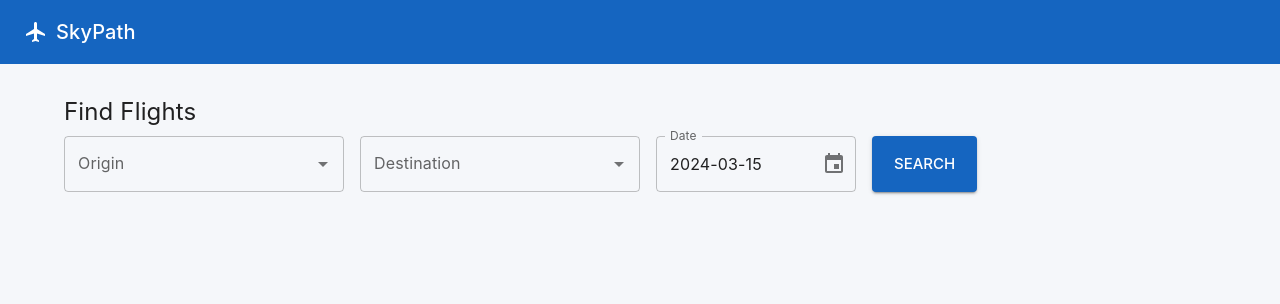
App › shows empty state when API returns no results (TC#4 — same-origin rejected yields empty; TC#3 route with no flights)
In the dropdown labelled "Origin": {"x": 189, "y": 164} x1=73 y1=145 x2=305 y2=183, type "JFK"
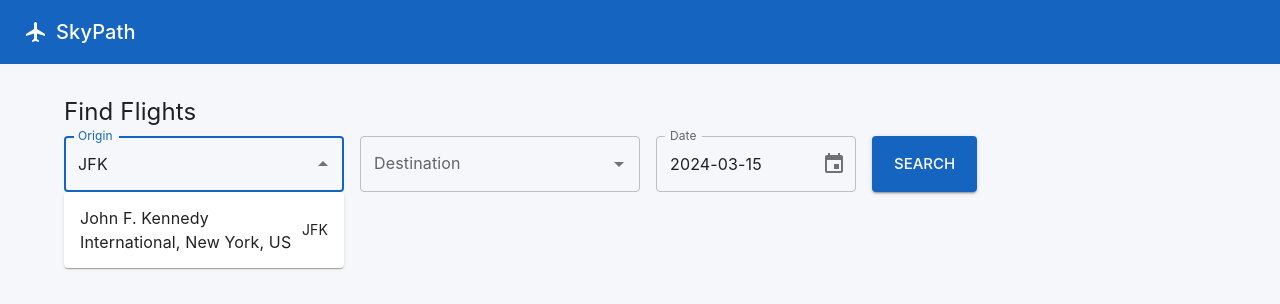
Check: the text "John F. Kennedy International, New York, US" is shown
Click the text "John F. Kennedy International, New York, US": {"x": 187, "y": 230} x1=80 y1=206 x2=294 y2=254
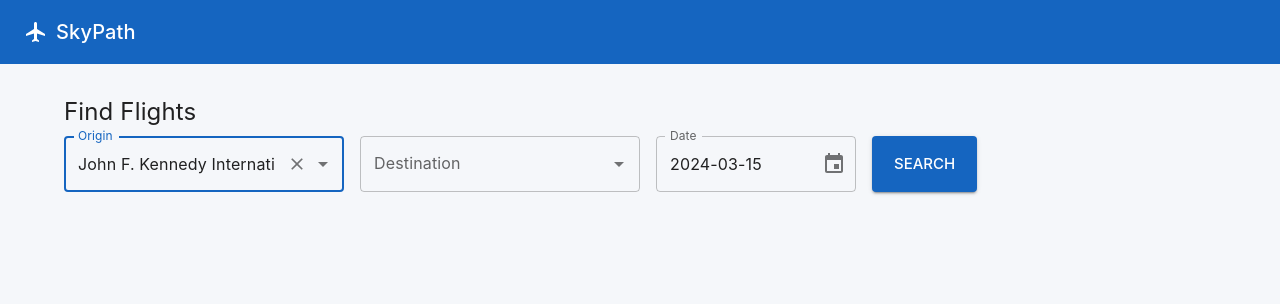
In the dropdown labelled "Destination": {"x": 485, "y": 164} x1=369 y1=145 x2=601 y2=183, type "LAX"
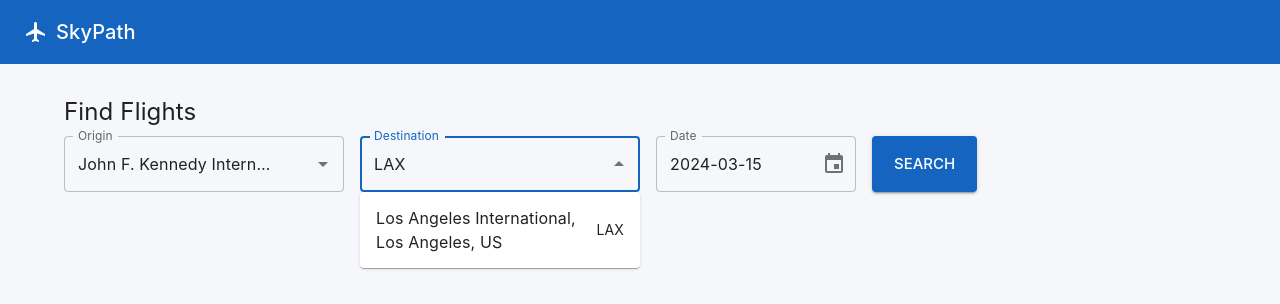
Check: the text "Los Angeles International, Los Angeles, US" is shown
Click the text "Los Angeles International, Los Angeles, US": {"x": 482, "y": 230} x1=376 y1=206 x2=588 y2=254
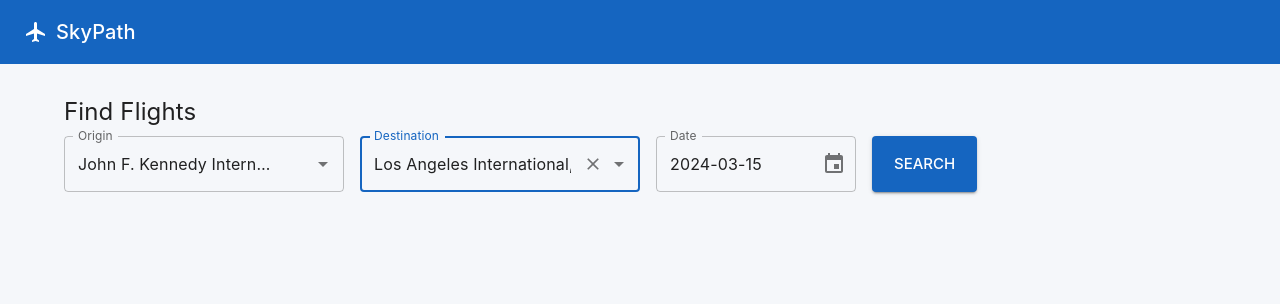
Click the button "Search": {"x": 925, "y": 164} x1=872 y1=136 x2=977 y2=192
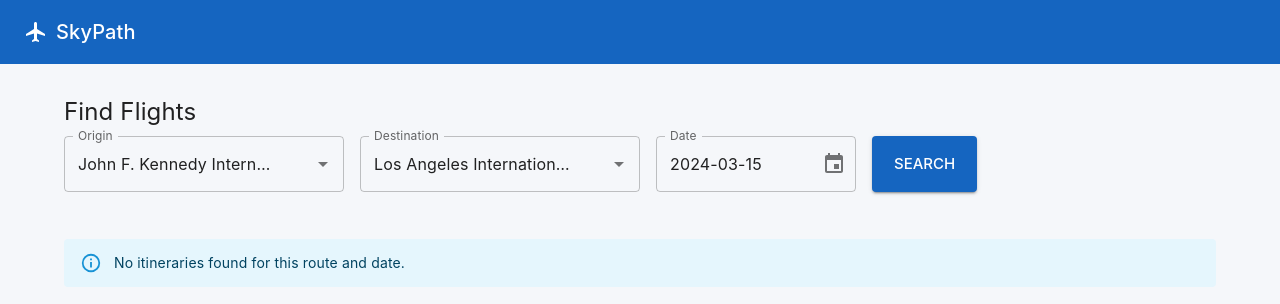
Check: the text "No itineraries found for this route and date." is shown, box x1=114 y1=254 x2=405 y2=271
